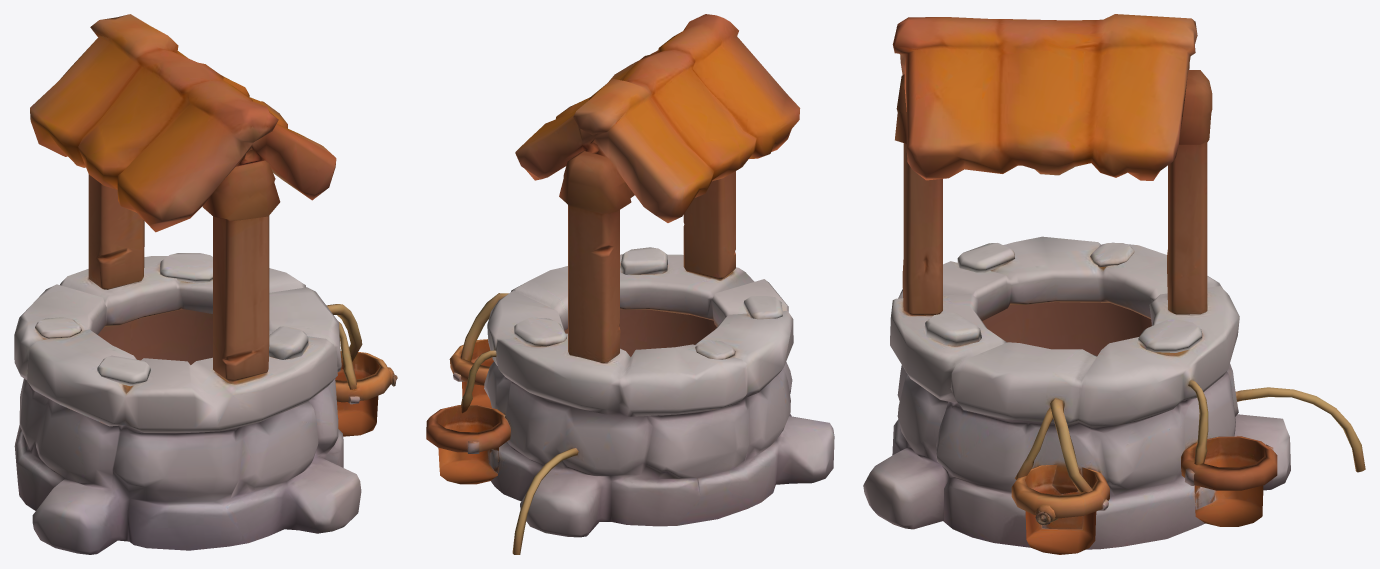
Rendered from model_web.glb.
3 renders of one model, left to right at view 1: azimuth 30°, elevation 25°; view 2: azimuth 150°, elevation 25°; view 3: azimuth 270°, elevation 25°, orthographic. The views are drawn at different scales.
Parts seen in each view (by area): view 1: tripo_node_1675d699-bcd6-4a04-890f-fe11abd997b6; view 2: tripo_node_1675d699-bcd6-4a04-890f-fe11abd997b6; view 3: tripo_node_1675d699-bcd6-4a04-890f-fe11abd997b6.
Boxes of the visible parts, x1=… form: tripo_node_1675d699-bcd6-4a04-890f-fe11abd997b6: x1=14, y1=14, x2=397, y2=554; tripo_node_1675d699-bcd6-4a04-890f-fe11abd997b6: x1=426, y1=14, x2=834, y2=554; tripo_node_1675d699-bcd6-4a04-890f-fe11abd997b6: x1=863, y1=14, x2=1365, y2=554.
Size of the model in its own units: 0.9199 by 0.998 by 0.998.
1 material, 1 textured.
